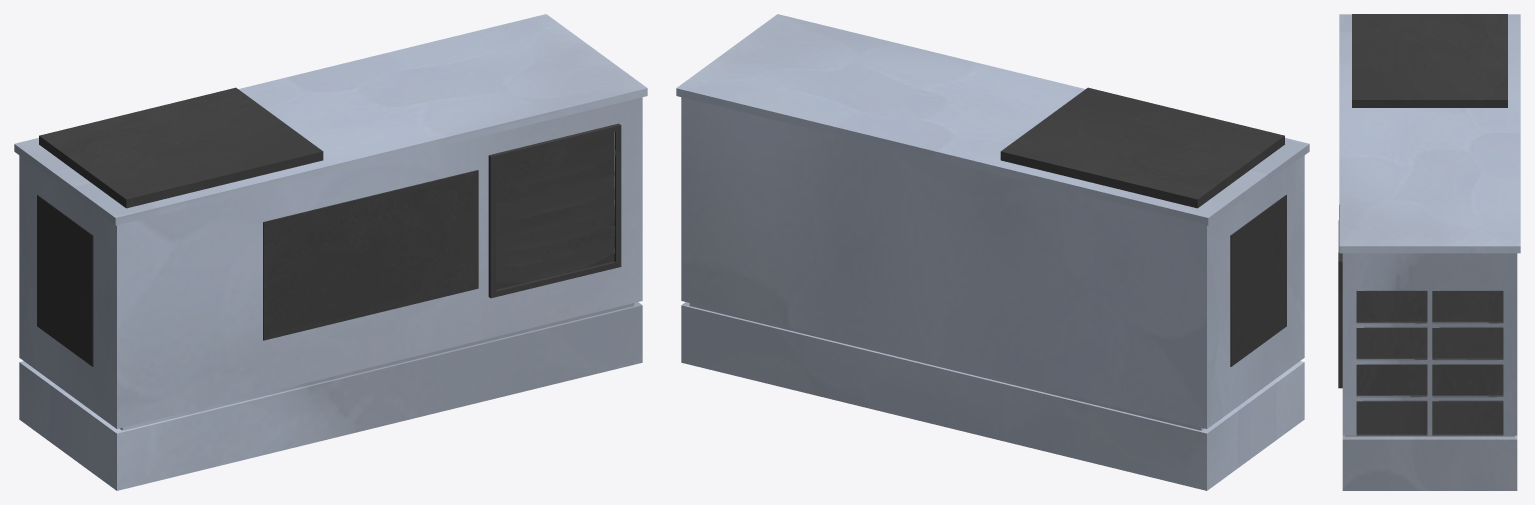
File: Maintenance_generator.fbx
The picture shows the model from 3 angles, left to right: view 1: azimuth 30°, elevation 25°; view 2: azimuth 150°, elevation 25°; view 3: azimuth 270°, elevation 25°; orthographic projection. The views are drawn at different scales.
Visible parts, largest first — view 1: Cube.036; view 2: Cube.036; view 3: Cube.036.
Part boxes in pixels (<box>): Cube.036: <box>14,14,647,490</box>; Cube.036: <box>676,14,1309,490</box>; Cube.036: <box>1338,14,1520,490</box>.
Bounding box in the file's own units: 421 × 215 × 140.
1 material, 1 textured.
